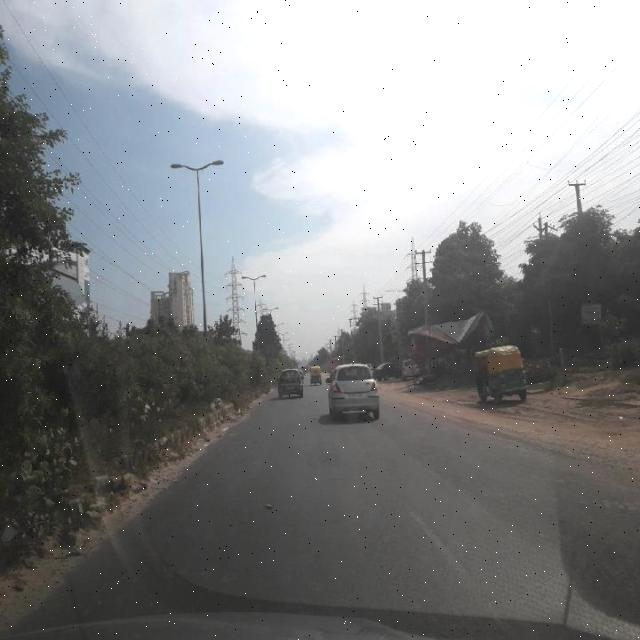D20: (86, 439, 640, 610)
D44: (394, 487, 500, 618)
